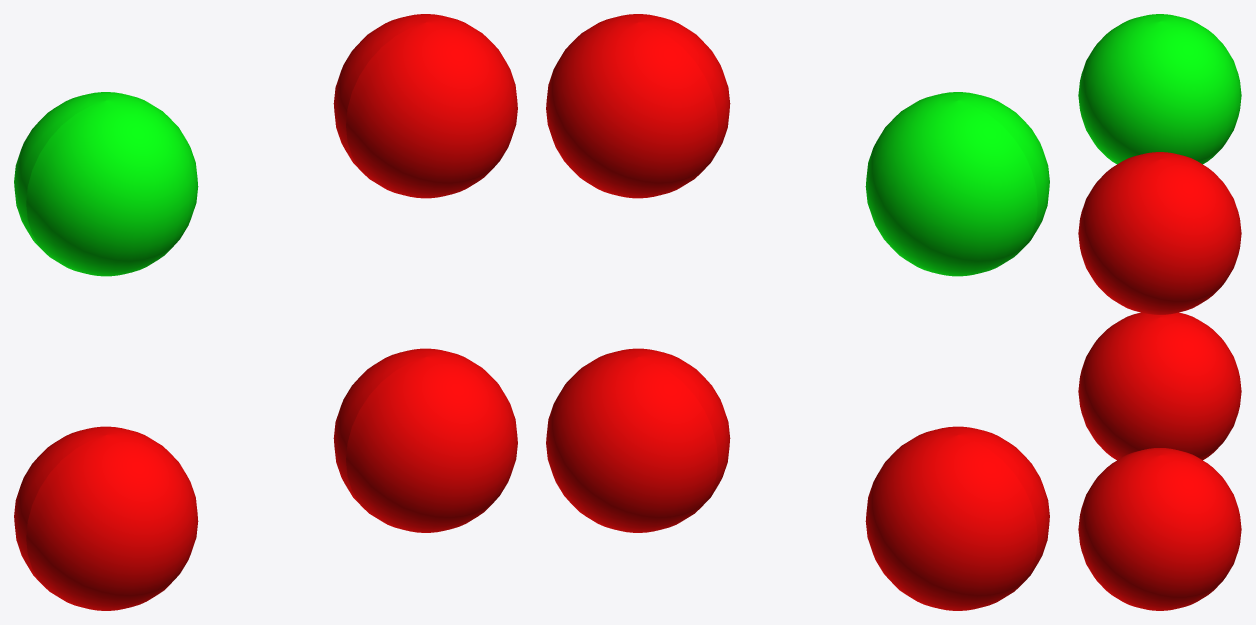
Rendered from sphereMat.gltf.
3 renders of one model, left to right at view 1: azimuth 30°, elevation 25°; view 2: azimuth 150°, elevation 25°; view 3: azimuth 270°, elevation 25°, orthographic. The views are drawn at different scales.
Parts seen in each view (by area): view 1: Sphere, Sphere.003, Sphere.001, Sphere.002; view 2: Sphere, Sphere.003, Sphere.001, Sphere.002; view 3: Sphere.003, Sphere.001, Sphere.002, Sphere.
Part boxes in pixels (x1,y1,x2,y2): Sphere: (14, 426, 198, 610); Sphere.003: (333, 14, 517, 198); Sphere.001: (333, 348, 517, 532); Sphere.002: (14, 92, 198, 276); Sphere: (865, 426, 1049, 610); Sphere.003: (546, 14, 730, 198); Sphere.001: (546, 348, 730, 532); Sphere.002: (865, 92, 1049, 276); Sphere.003: (1078, 152, 1241, 314); Sphere.001: (1078, 448, 1241, 610); Sphere.002: (1078, 14, 1241, 164); Sphere: (1078, 312, 1241, 460).
Size of the model in its own units: 6 by 6 by 2.
